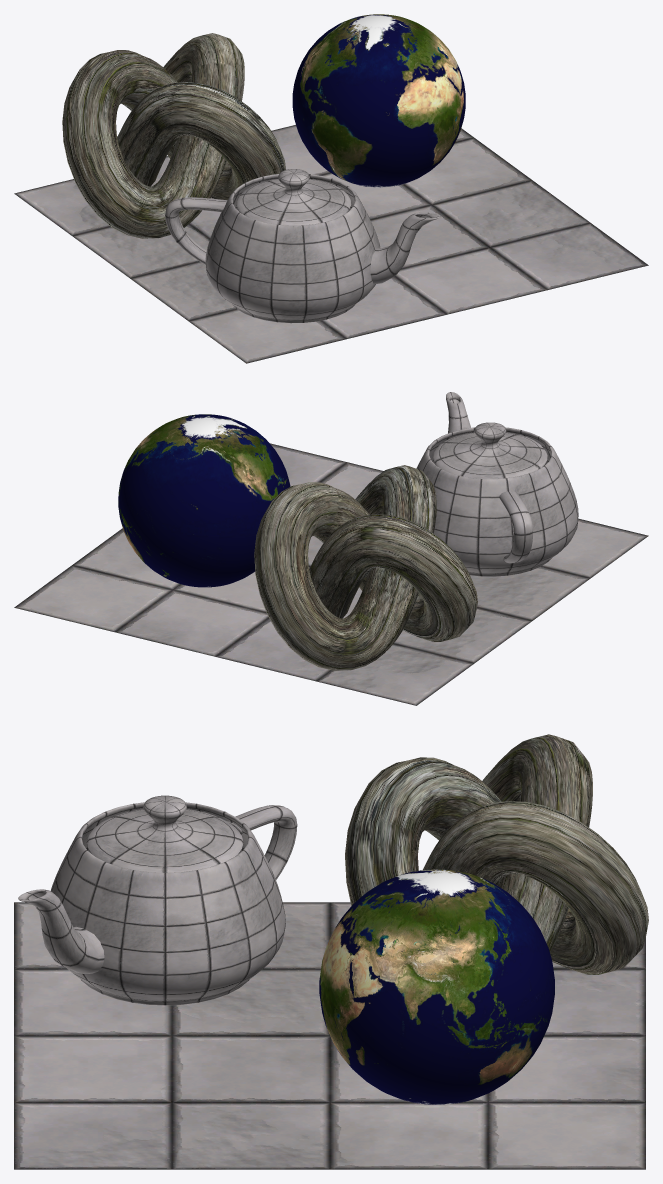
3 views of the same model, one above another, from view 1: azimuth 30°, elevation 25°; view 2: azimuth 150°, elevation 25°; view 3: azimuth 270°, elevation 25° (orthographic). The views are drawn at different scales.
Visible parts, largest first — view 1: Plane01, Torus_Knot01, Teapot01, Sphere01; view 2: Plane01, Torus_Knot01, Sphere01, Teapot01; view 3: Plane01, Sphere01, Teapot01, Torus_Knot01.
Part boxes in pixels (x1,y1,x2,y2): Plane01: [14, 125, 648, 363]; Torus_Knot01: [62, 33, 285, 238]; Teapot01: [165, 169, 440, 323]; Sphere01: [292, 14, 465, 187]; Plane01: [14, 443, 648, 705]; Torus_Knot01: [254, 465, 477, 670]; Sphere01: [118, 414, 290, 587]; Teapot01: [416, 392, 578, 576]; Plane01: [14, 902, 645, 1169]; Sphere01: [319, 869, 554, 1104]; Teapot01: [18, 795, 297, 1005]; Torus_Knot01: [345, 734, 648, 974].
Bounding box in the file's own units: 11.33 × 4.3 × 11.38.
4 materials, 4 textured.
